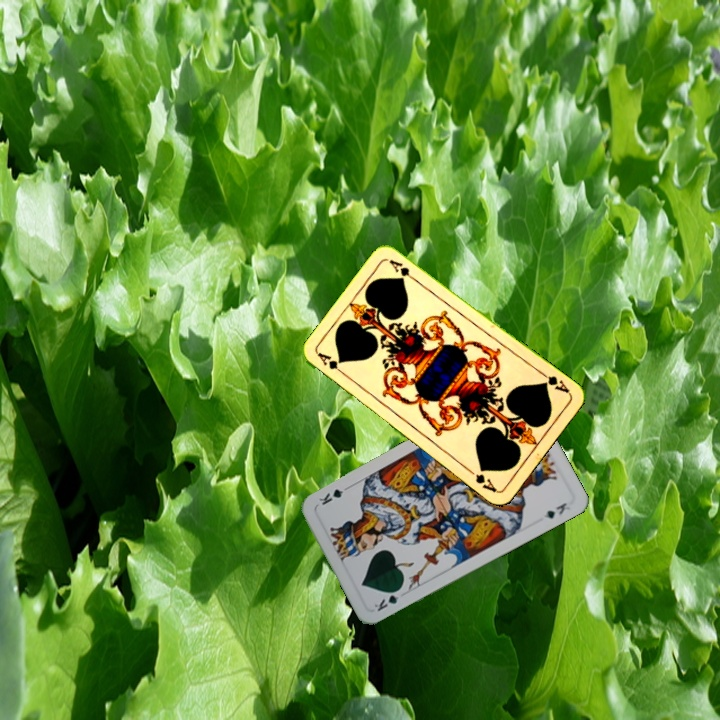GA: (314, 349, 349, 379), (536, 368, 572, 396)
GK: (370, 584, 404, 614)
